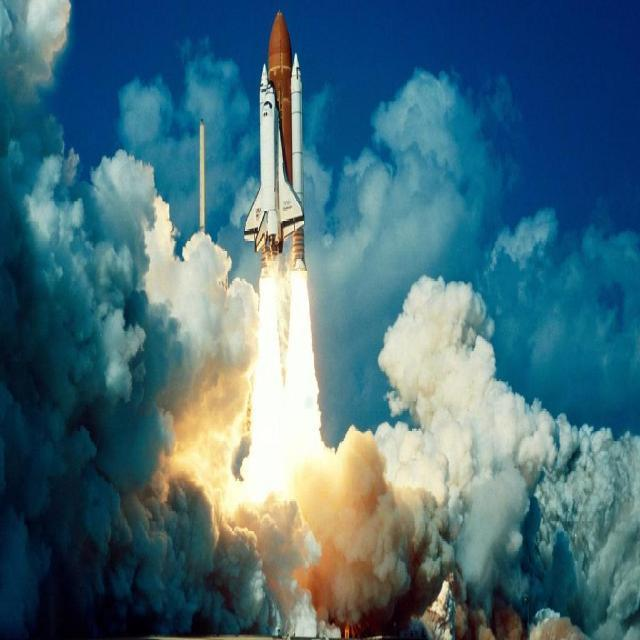missile: (288, 49, 308, 274), (197, 109, 210, 235)
